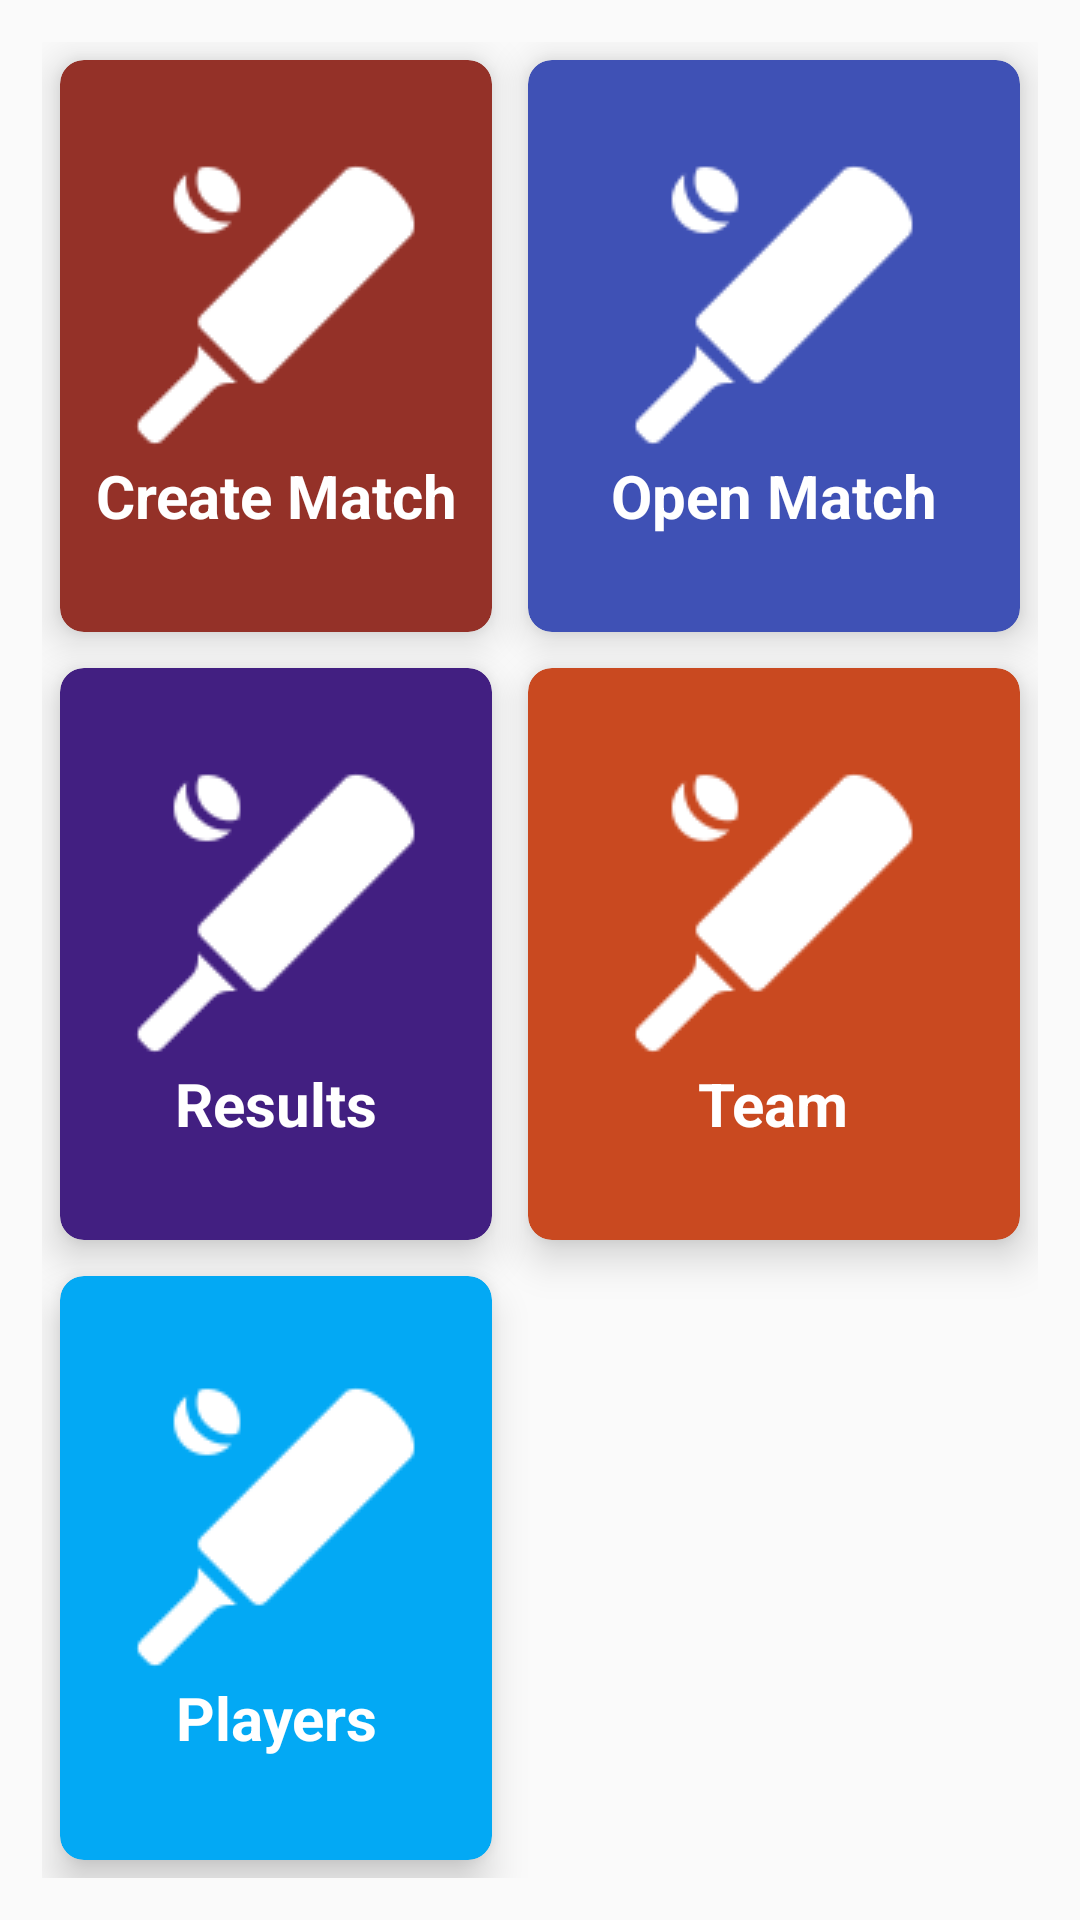

Icons on this 1080 x 1920 Android screen, each with the point to tap as (x,y):
cricket: (276,305), (774,305), (276,913), (774,913), (276,1527)
